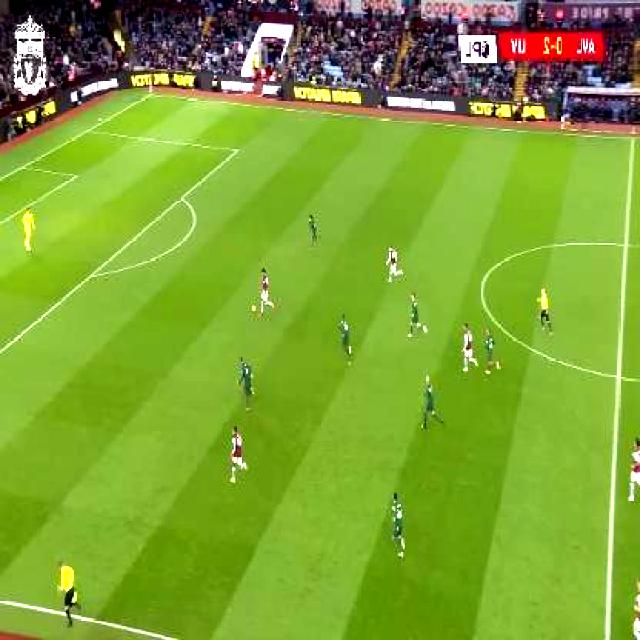bigarea_top_inner: (231, 140, 246, 158)
bigarea_top_outter: (83, 123, 95, 137)
bottom_arc_area_intersection: (86, 265, 102, 283)
corner: (146, 88, 160, 100)
halfcircle_bottom: (609, 360, 629, 389)
halfcircle_top: (617, 231, 637, 255)
midline_top_intersection: (624, 127, 640, 146)
smallarea_top_inner: (70, 166, 84, 183)
smallarea_top_outter: (17, 158, 31, 174)
top_arc_area_intersection: (176, 188, 190, 206)
